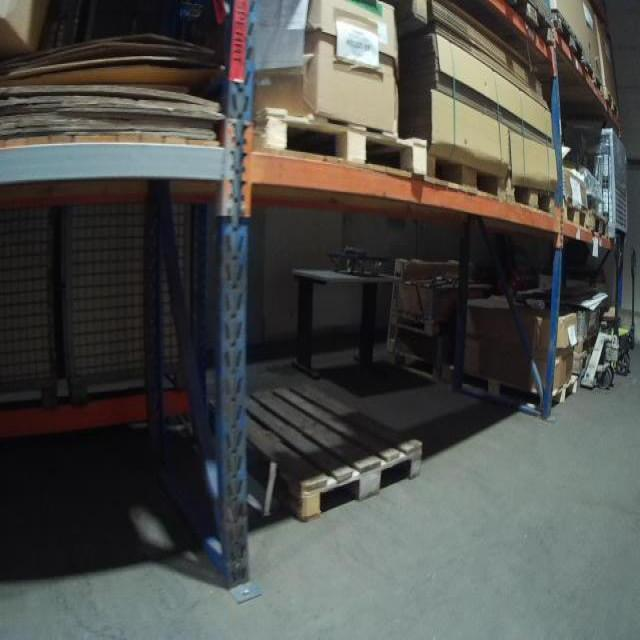pallet: (205, 384, 420, 522), (252, 108, 428, 179), (456, 363, 579, 415), (424, 149, 507, 200), (508, 0, 556, 45), (552, 10, 586, 67), (506, 177, 554, 215), (559, 198, 591, 229), (582, 60, 604, 97), (588, 212, 609, 239), (602, 89, 619, 116)
pallet_truck: (566, 231, 631, 398), (618, 246, 639, 380)
stillage: (62, 192, 197, 408), (2, 192, 62, 406), (562, 123, 637, 235)
